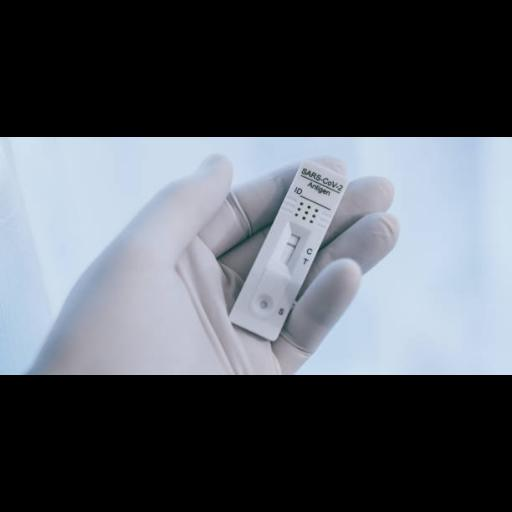Neg: (227, 157, 350, 341)
